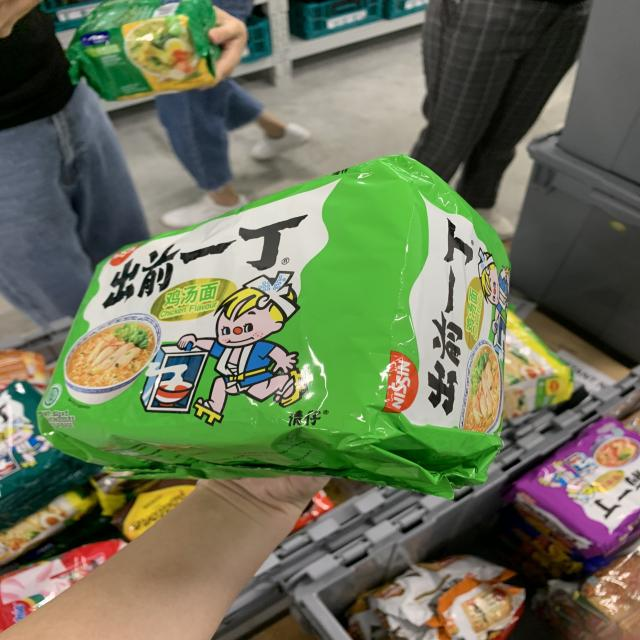object_name: (37, 211, 496, 472)
